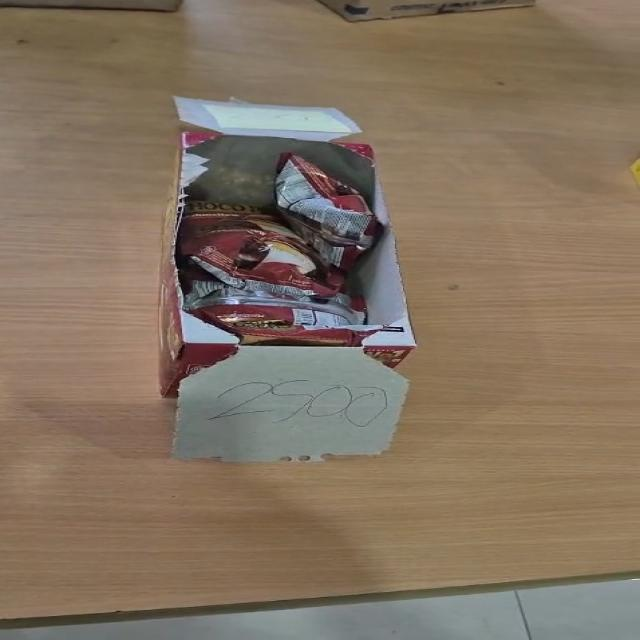Chocopie: (174, 201, 345, 301), (177, 276, 380, 346), (272, 150, 382, 270)
